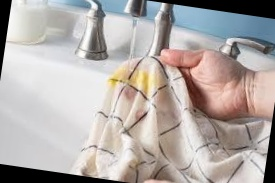mustard: (138, 69, 158, 95), (115, 67, 134, 86)
